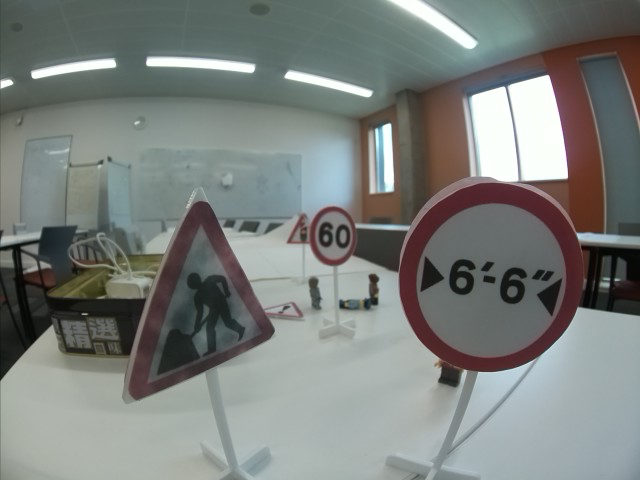60mph: (310, 207, 355, 265)
6ft6: (398, 175, 584, 366)
Lego Man: (436, 356, 461, 389), (339, 297, 372, 311), (369, 272, 380, 306), (311, 274, 321, 310)
Roadworks: (129, 198, 261, 399)
Traffic lights: (286, 212, 313, 245)
Warning: (262, 299, 307, 317)
